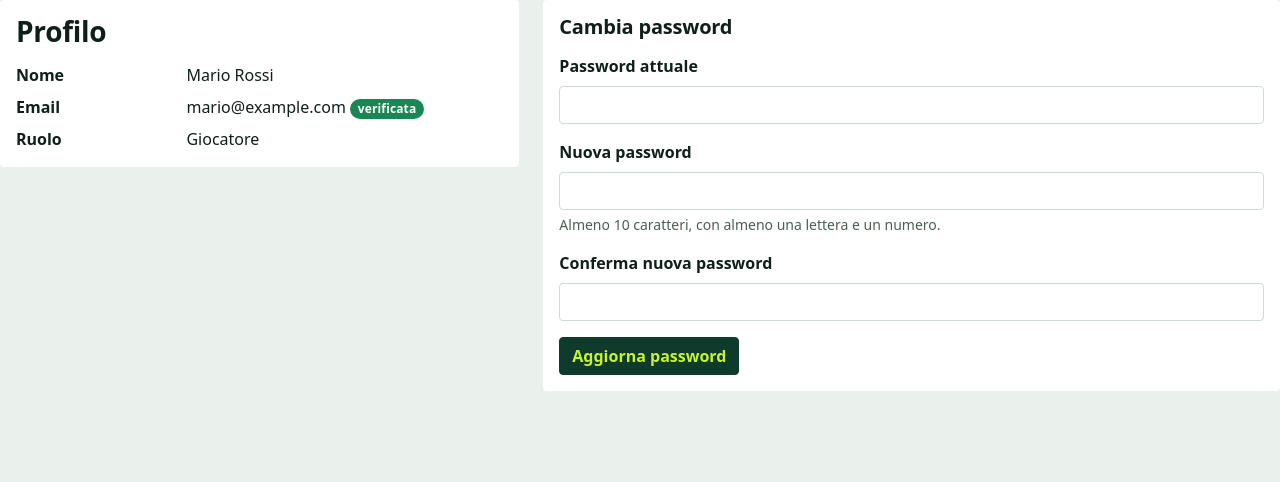
Test: ProfilePage › cambia la password e aggiorna la sessione del dispositivo
Type "VecchiaPass2025" into the password field labelled "Password attuale".
click(912, 105); type("VecchiaPass2025")  # box [559,86,1264,124]
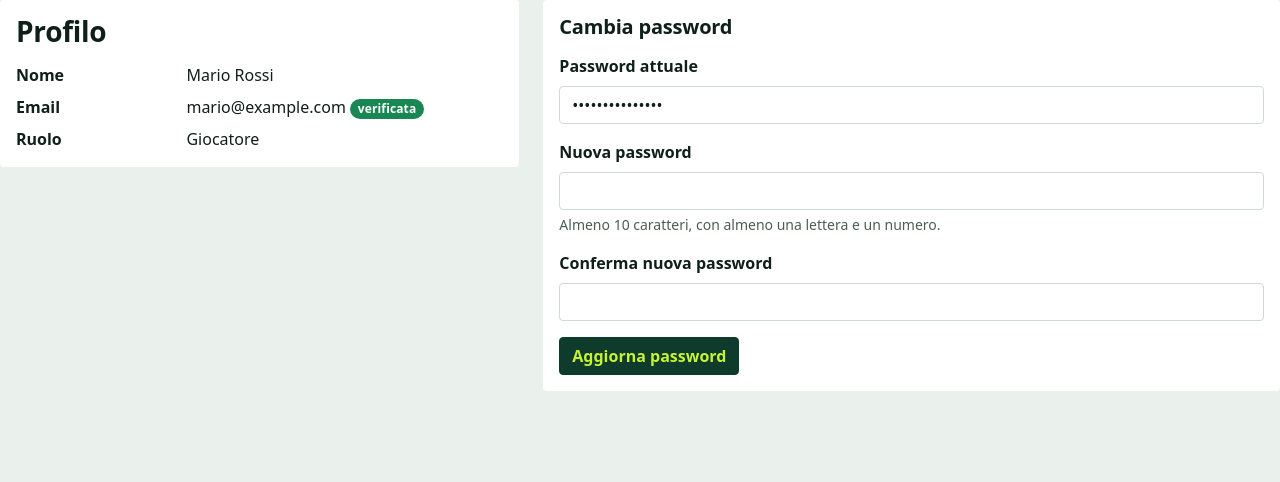
Type "NuovaPass2026" into the password field labelled "Nuova password".
click(912, 191); type("NuovaPass2026")  # box [559,172,1264,210]
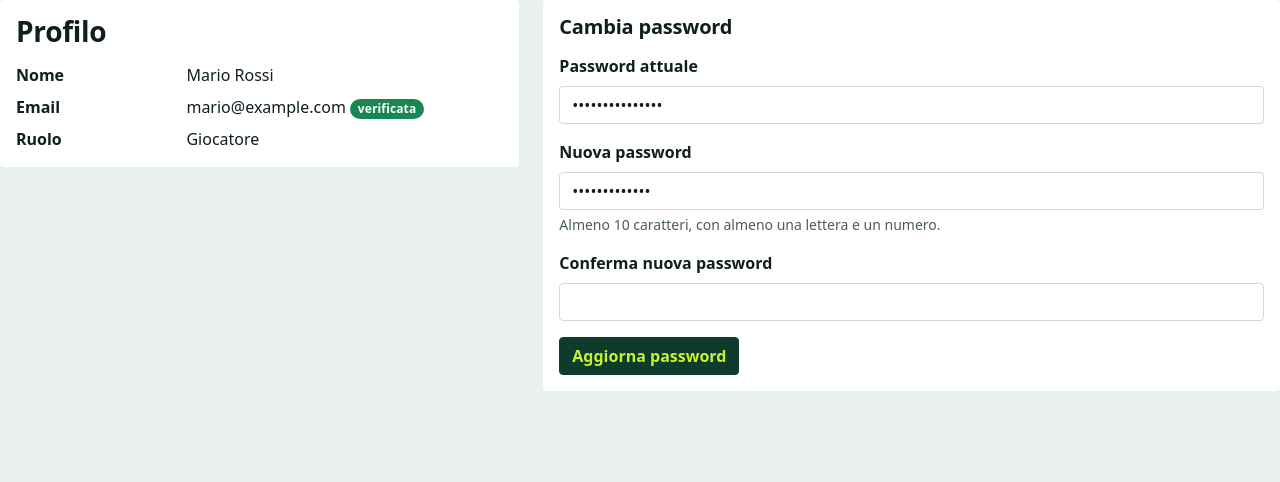
Type "NuovaPass2026" into the password field labelled "Conferma nuova password".
click(912, 302); type("NuovaPass2026")  # box [559,283,1264,321]
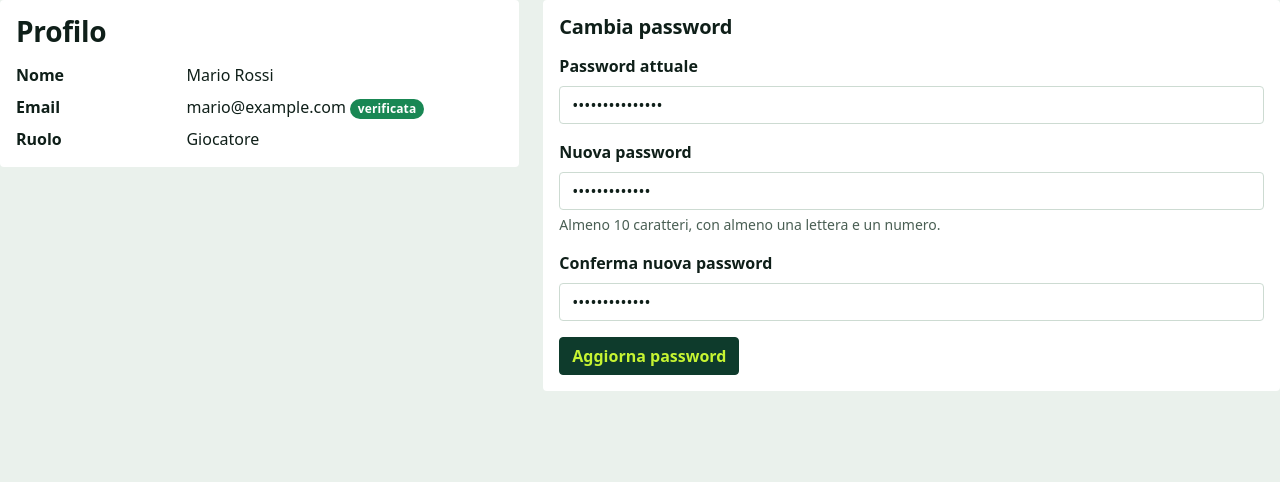
Click the button "Aggiorna password".
click(649, 356)  # box [559,337,739,375]
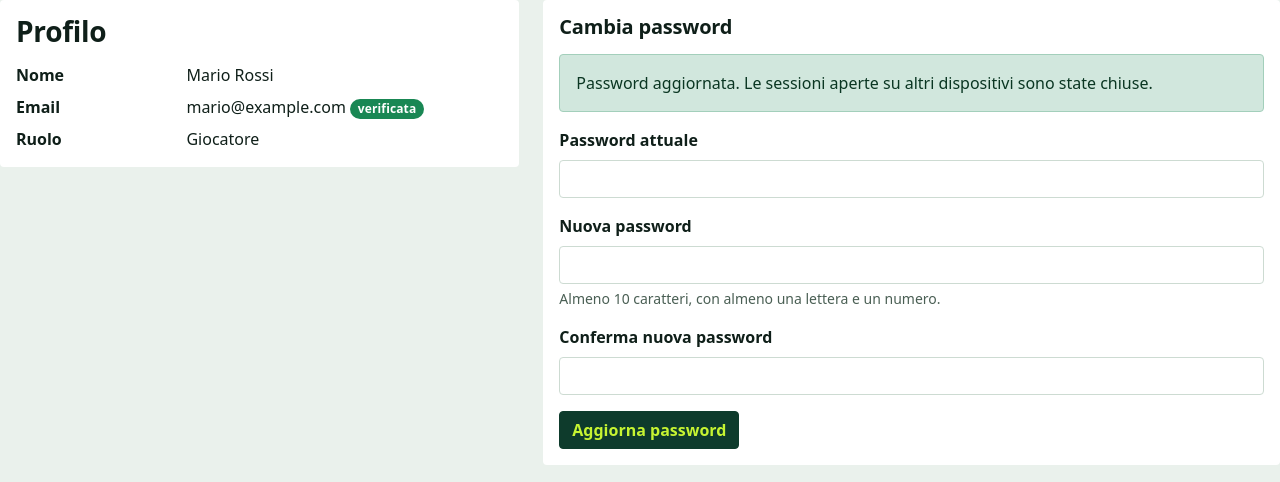
Expected: the message shows "Password aggiornata", [576,72,1153,94]
Expected: the password field labelled "Password attuale" is empty, [559,160,1264,198]
